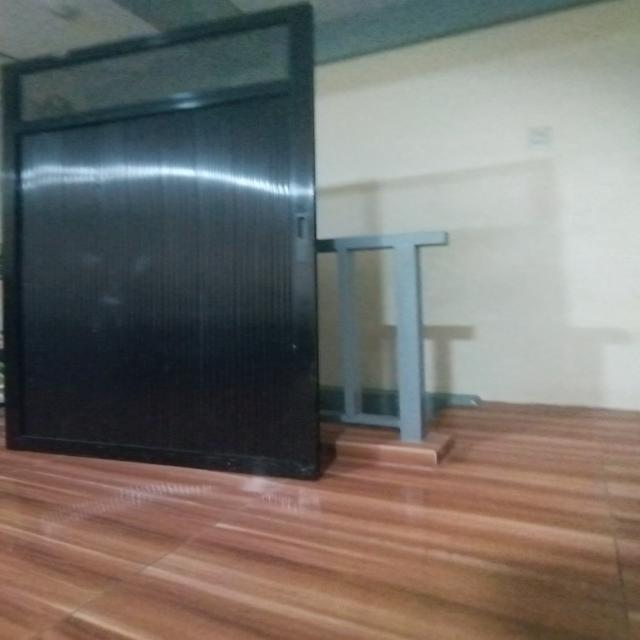door: (0, 4, 335, 481)
